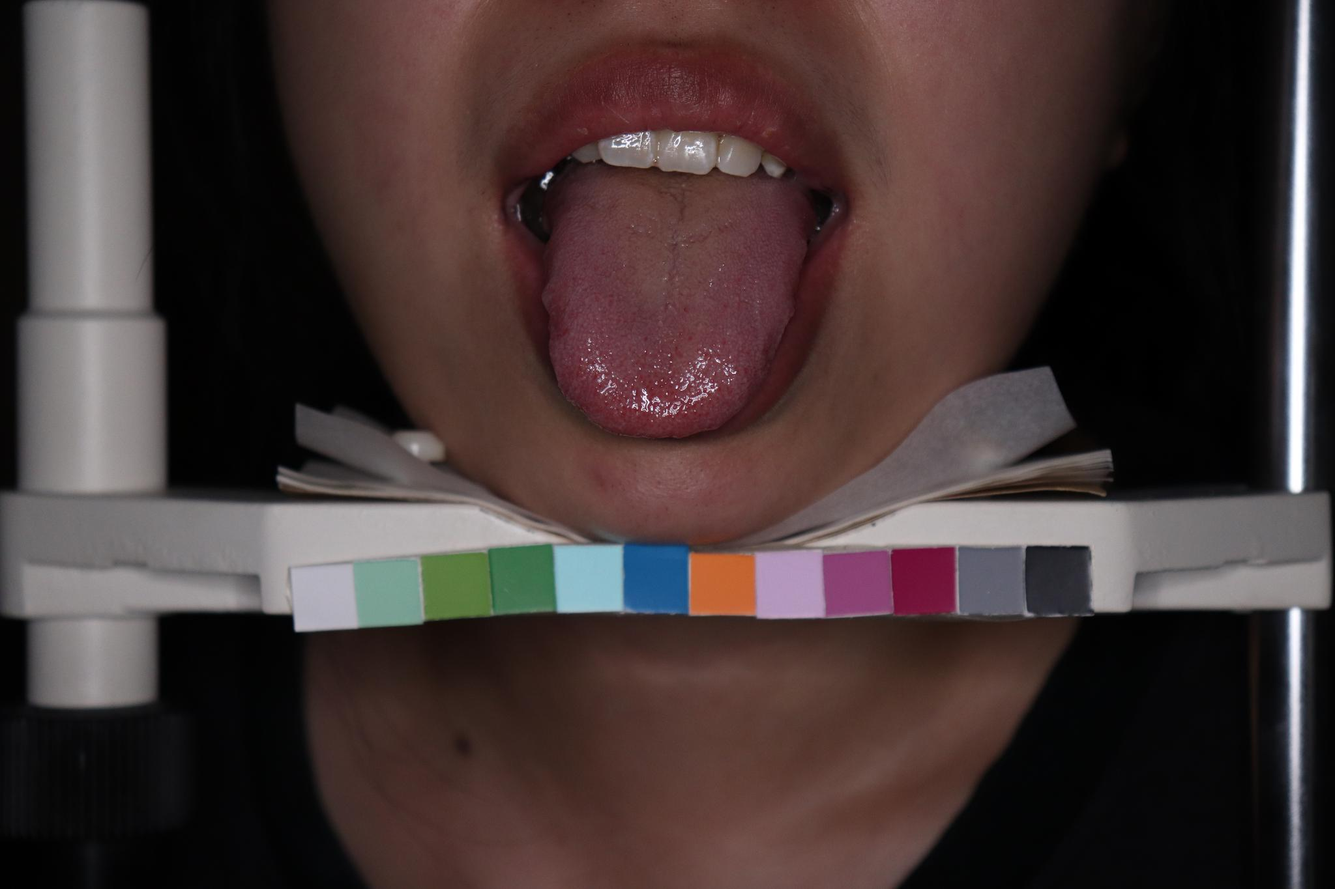chihenshe: (540, 289, 558, 370)
huangtaishe: (539, 174, 809, 440)
